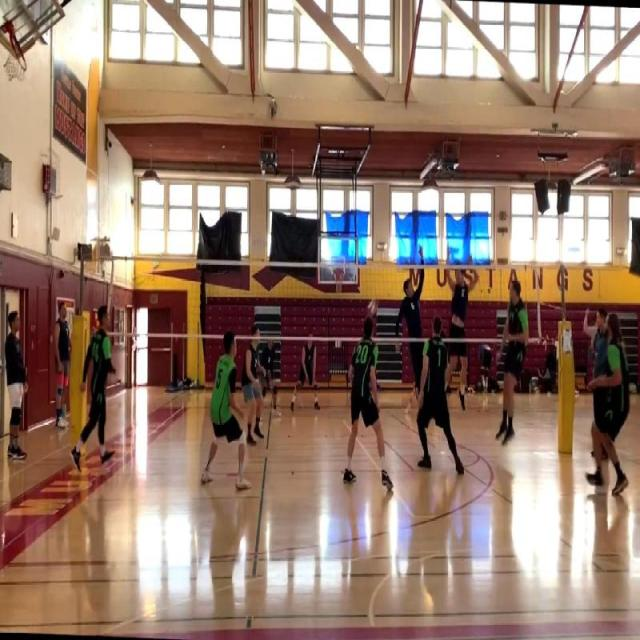volleyball: (368, 300, 376, 315)
